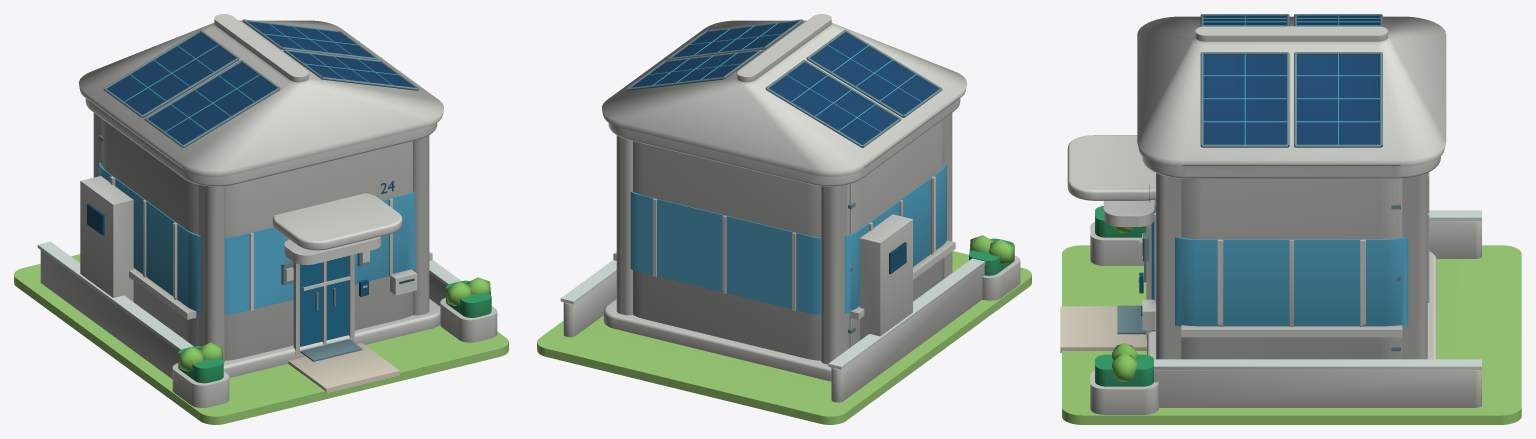
File: house-solar.glb
The picture shows the model from 3 angles, left to right: view 1: azimuth 30°, elevation 25°; view 2: azimuth 150°, elevation 25°; view 3: azimuth 270°, elevation 25°; orthographic projection. The views are drawn at different scales.
Parts seen in each view (by area): view 1: house footing, continuous blue glazing, residential garden, inset solar roof module, solar module frame, recessed entrance, front walk, garden wall cap, planter foliage, shrub tip, identity 24; view 2: house footing, continuous blue glazing, residential garden, inset solar roof module, solar module frame, garden wall cap, shrub tip, planter foliage; view 3: house footing, residential garden, continuous blue glazing, inset solar roof module, solar module frame, garden wall cap, front walk, planter foliage, shrub tip.
Boxes of the visible parts, bbox=[...] form: house footing: bbox=[40, 14, 497, 407]; continuous blue glazing: bbox=[99, 23, 415, 315]; residential garden: bbox=[14, 254, 508, 424]; inset solar roof module: bbox=[107, 21, 414, 144]; solar module frame: bbox=[98, 19, 419, 361]; recessed entrance: bbox=[300, 256, 348, 346]; front walk: bbox=[288, 343, 399, 393]; garden wall cap: bbox=[37, 241, 460, 350]; planter foliage: bbox=[178, 280, 491, 383]; shrub tip: bbox=[178, 277, 490, 371]; identity 24: bbox=[87, 180, 414, 296]; house footing: bbox=[563, 14, 1020, 402]; continuous blue glazing: bbox=[630, 23, 946, 315]; residential garden: bbox=[537, 251, 1031, 424]; inset solar roof module: bbox=[631, 21, 938, 144]; solar module frame: bbox=[626, 19, 942, 333]; garden wall cap: bbox=[560, 258, 985, 369]; shrub tip: bbox=[969, 235, 1013, 263]; planter foliage: bbox=[969, 238, 1014, 275]; house footing: bbox=[1067, 16, 1481, 414]; residential garden: bbox=[1062, 245, 1521, 424]; continuous blue glazing: bbox=[1175, 14, 1408, 326]; inset solar roof module: bbox=[1203, 15, 1379, 144]; solar module frame: bbox=[1117, 14, 1400, 351]; garden wall cap: bbox=[1153, 210, 1481, 369]; front walk: bbox=[1060, 306, 1146, 352]; planter foliage: bbox=[1095, 206, 1153, 386]; shrub tip: bbox=[1112, 226, 1137, 381].
Size of the model in its own units: 2.73 by 2.28 by 3.09.
